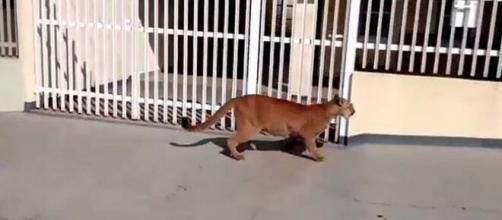OncaParda: (175, 90, 360, 167)
